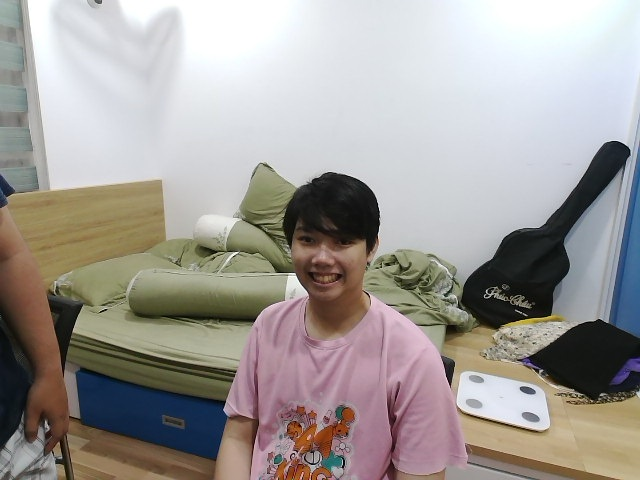face: (283, 172, 380, 302)
